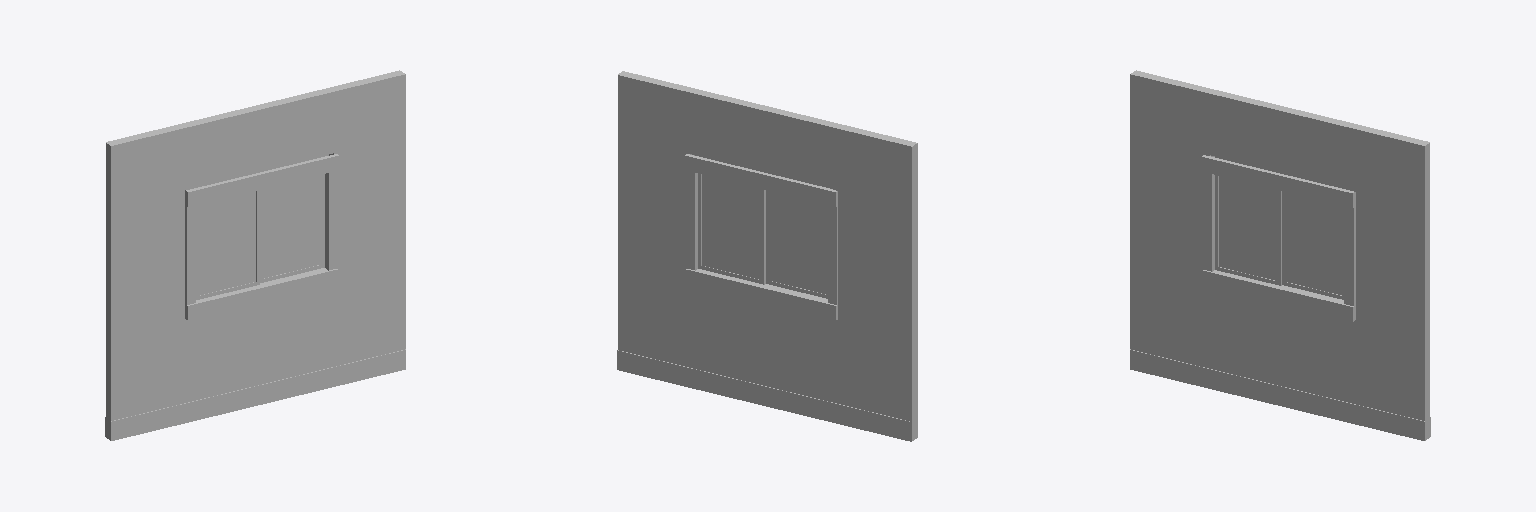
File: Parede_com_Janela.obj
3 renders of one model, left to right at view 1: azimuth 30°, elevation 25°; view 2: azimuth 150°, elevation 25°; view 3: azimuth 330°, elevation 25°, orthographic.
Parts seen in each view (by area): view 1: Parede_com_Janela; view 2: Parede_com_Janela; view 3: Parede_com_Janela.
Part boxes in pixels (x1,y1,x2,y2): Parede_com_Janela: (105, 70, 405, 440); Parede_com_Janela: (617, 71, 917, 441); Parede_com_Janela: (1130, 70, 1430, 440).
Size of the model in its own units: 6.24 by 5.97 by 0.375.